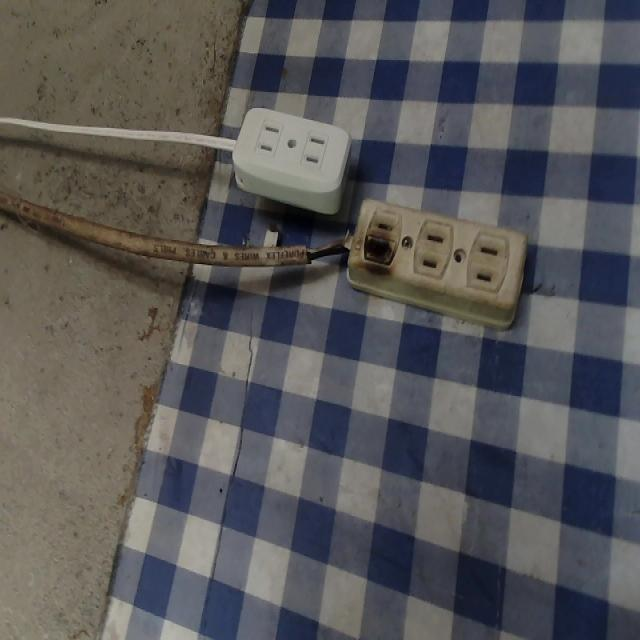-: (358, 228, 404, 279)
